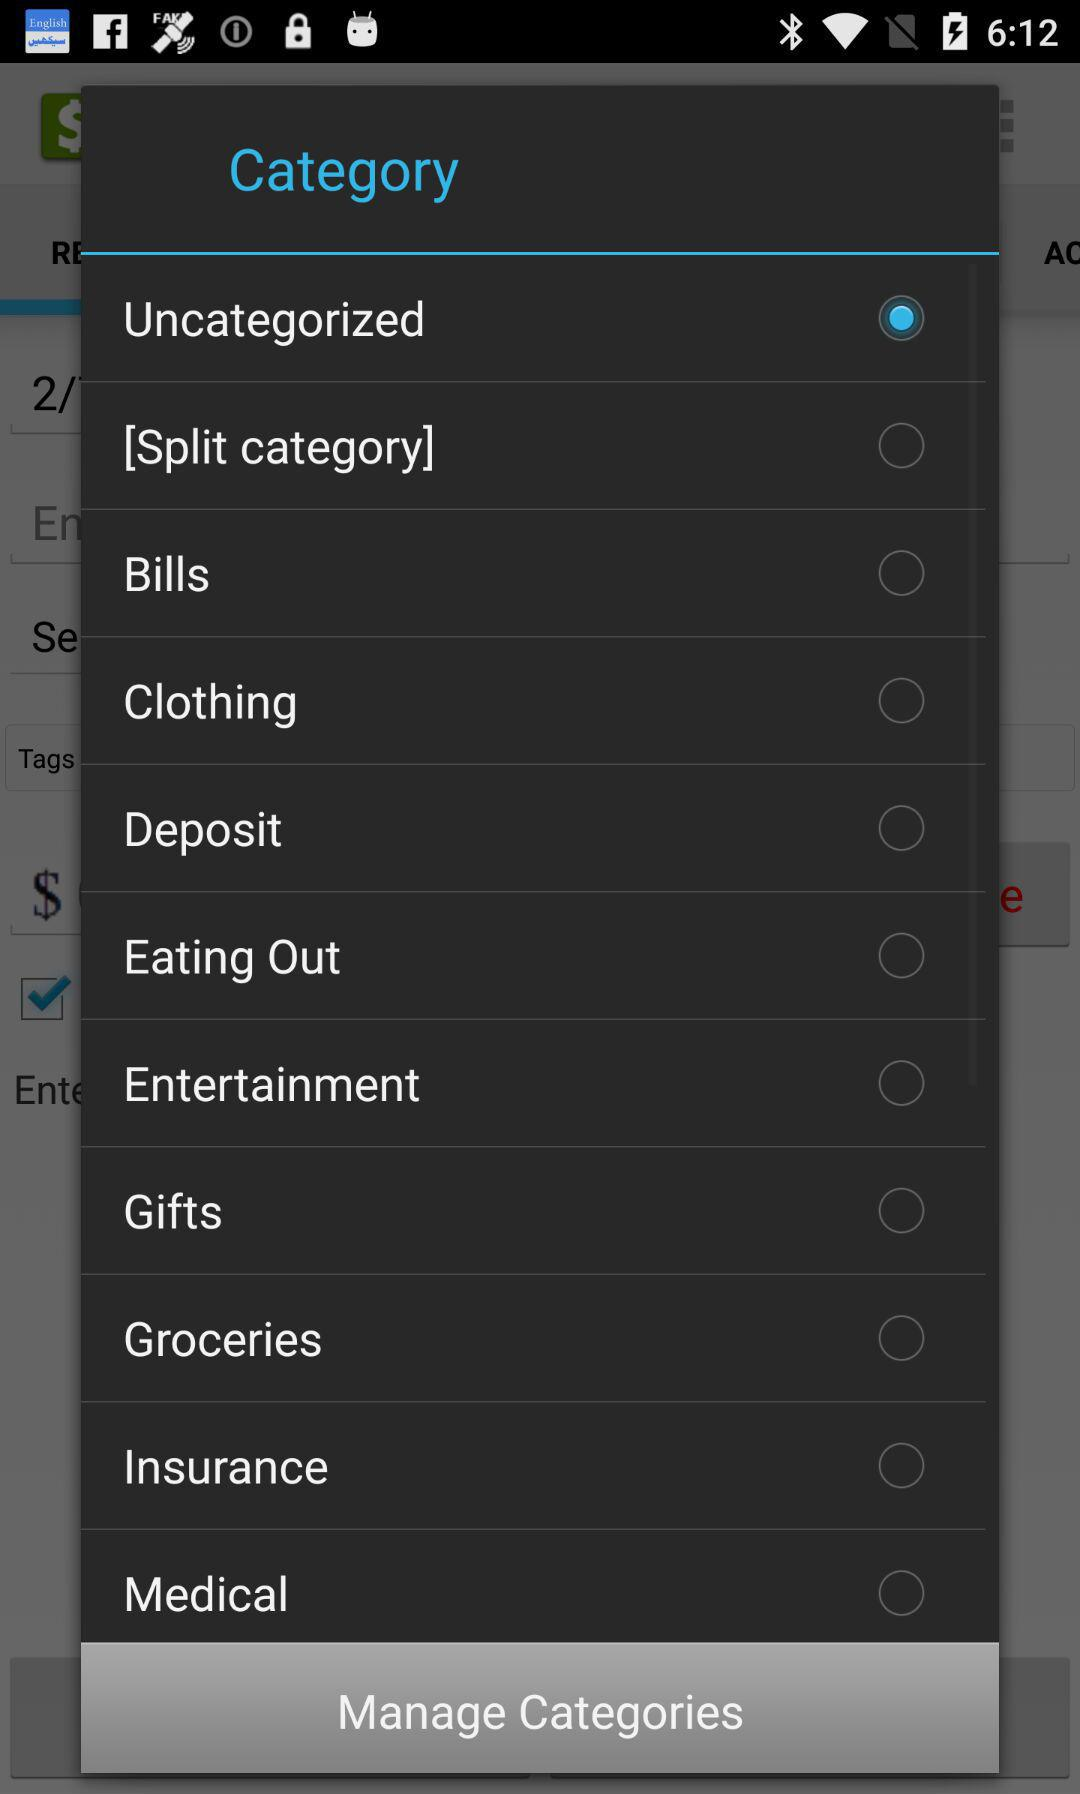CheckedTextView: (126, 293, 928, 349), (126, 803, 926, 859), (124, 677, 926, 730), (126, 422, 926, 475), (126, 932, 926, 985), (124, 1313, 926, 1363), (126, 548, 926, 598), (126, 1058, 926, 1108), (126, 1442, 926, 1492), (126, 1568, 926, 1618), (124, 1187, 928, 1235)
Modal: (81, 85, 1001, 1773)
Text: (126, 424, 434, 475), (126, 300, 424, 349), (231, 147, 460, 206), (126, 1066, 421, 1105), (126, 938, 341, 985), (124, 680, 297, 730), (124, 1320, 323, 1360), (126, 1448, 329, 1486), (126, 811, 284, 859), (126, 1574, 288, 1615), (124, 1190, 224, 1231), (126, 554, 210, 595)
TextButton: (81, 1643, 1001, 1773)
UpperTaskBar: (1, 1, 1080, 64)
